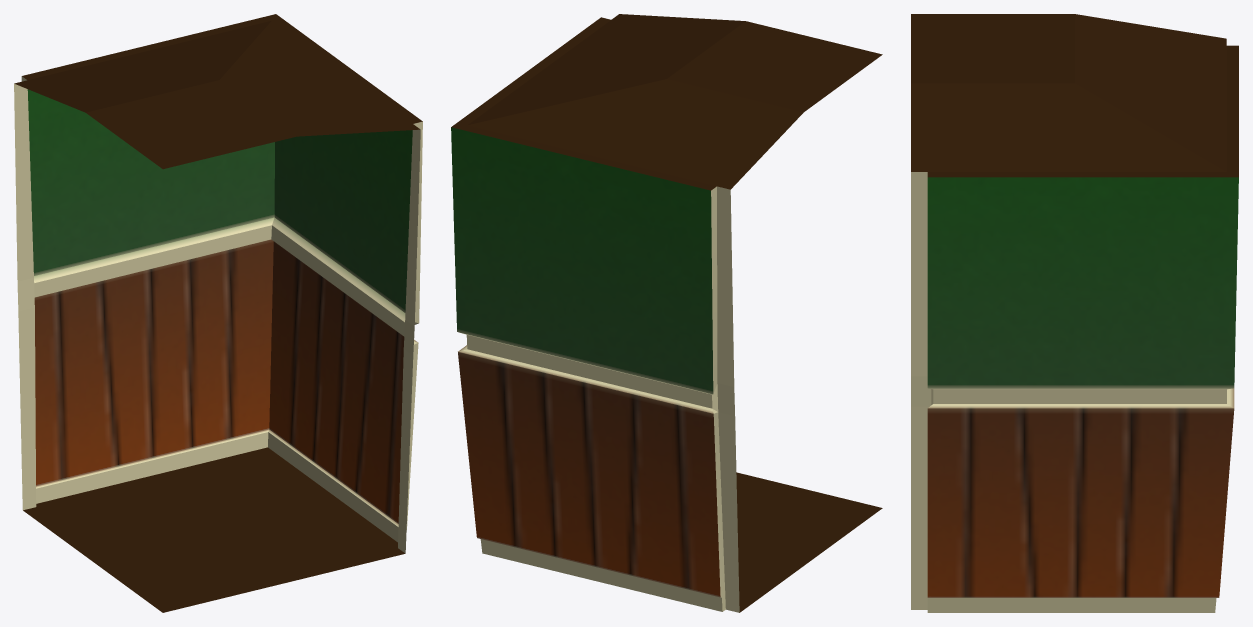
Rendered from Corner_Inward_02.fbx.
The picture shows the model from 3 angles, left to right: view 1: azimuth 30°, elevation 25°; view 2: azimuth 150°, elevation 25°; view 3: azimuth 270°, elevation 25°; orthographic projection. The views are drawn at different scales.
Parts seen in each view (by area): view 1: Corner_Inwards_02; view 2: Corner_Inwards_02; view 3: Corner_Inwards_02.
Part boxes in pixels (left/top/right/bottom): Corner_Inwards_02: left=14, top=14, right=422, bottom=612; Corner_Inwards_02: left=451, top=14, right=882, bottom=612; Corner_Inwards_02: left=911, top=14, right=1238, bottom=612.
Bounding box in the file's own units: 2 × 3.17 × 2.
